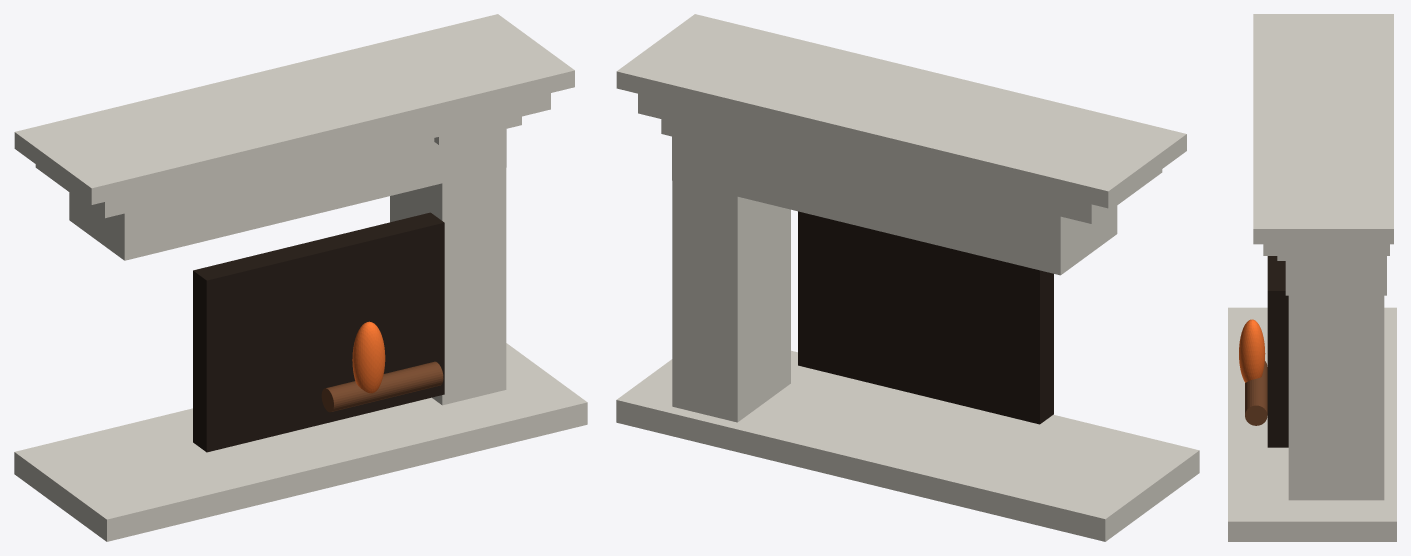
The model's file is fireplace.glb.
3 views of the same model, side by side, from view 1: azimuth 30°, elevation 25°; view 2: azimuth 150°, elevation 25°; view 3: azimuth 270°, elevation 25° (orthographic). The views are drawn at different scales.
Parts seen in each view (by area): view 1: Mantel2, Opening, Hearth, Lintel, Pier, Mantel1, Log, Flame, PierCap; view 2: Mantel2, Hearth, Opening, Pier, Lintel, Mantel1; view 3: Mantel2, Pier, Hearth, Opening, Mantel1, Flame, Log, PierCap, Lintel.
Part boxes in pixels (x1,y1,x2,y2): Mantel2: (14, 14, 574, 204); Opening: (193, 212, 444, 452); Hearth: (14, 343, 587, 541); Lintel: (69, 129, 506, 260); Pier: (390, 168, 506, 405); Mantel1: (35, 93, 550, 218); Log: (321, 361, 443, 412); Flame: (352, 321, 385, 393); PierCap: (434, 116, 521, 145); Mantel2: (616, 14, 1186, 208); Hearth: (616, 350, 1199, 541); Opening: (798, 211, 1053, 424); Pier: (672, 181, 790, 422); Lintel: (672, 122, 1117, 275); Mantel1: (638, 93, 1162, 223); Mantel2: (1253, 14, 1393, 244); Pier: (1288, 261, 1384, 500); Hearth: (1228, 307, 1396, 541); Opening: (1267, 256, 1288, 447); Mantel1: (1263, 244, 1389, 255); Flame: (1239, 319, 1265, 382); Log: (1245, 361, 1267, 425); PierCap: (1277, 256, 1386, 260); Lintel: (1285, 261, 1386, 295).
Size of the model in its own units: 3.62 by 2.49 by 1.2.
